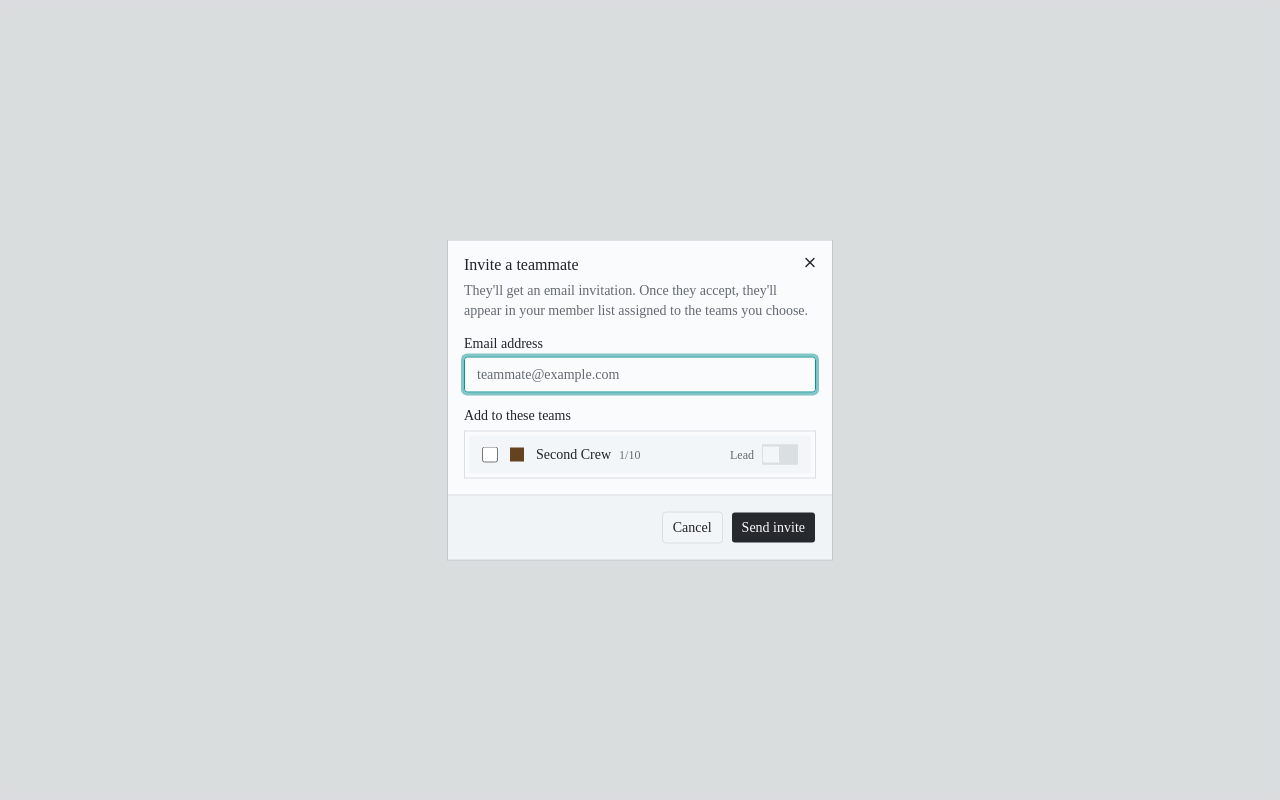
Test case: InviteForm › disables Send and shows an inline message when the typed email is already registered
The width and height of the screenshot is (1280, 800).
Type "registered@test.com" into the field labelled "Email address" at (640, 374), box x1=464 y1=356 x2=816 y2=392
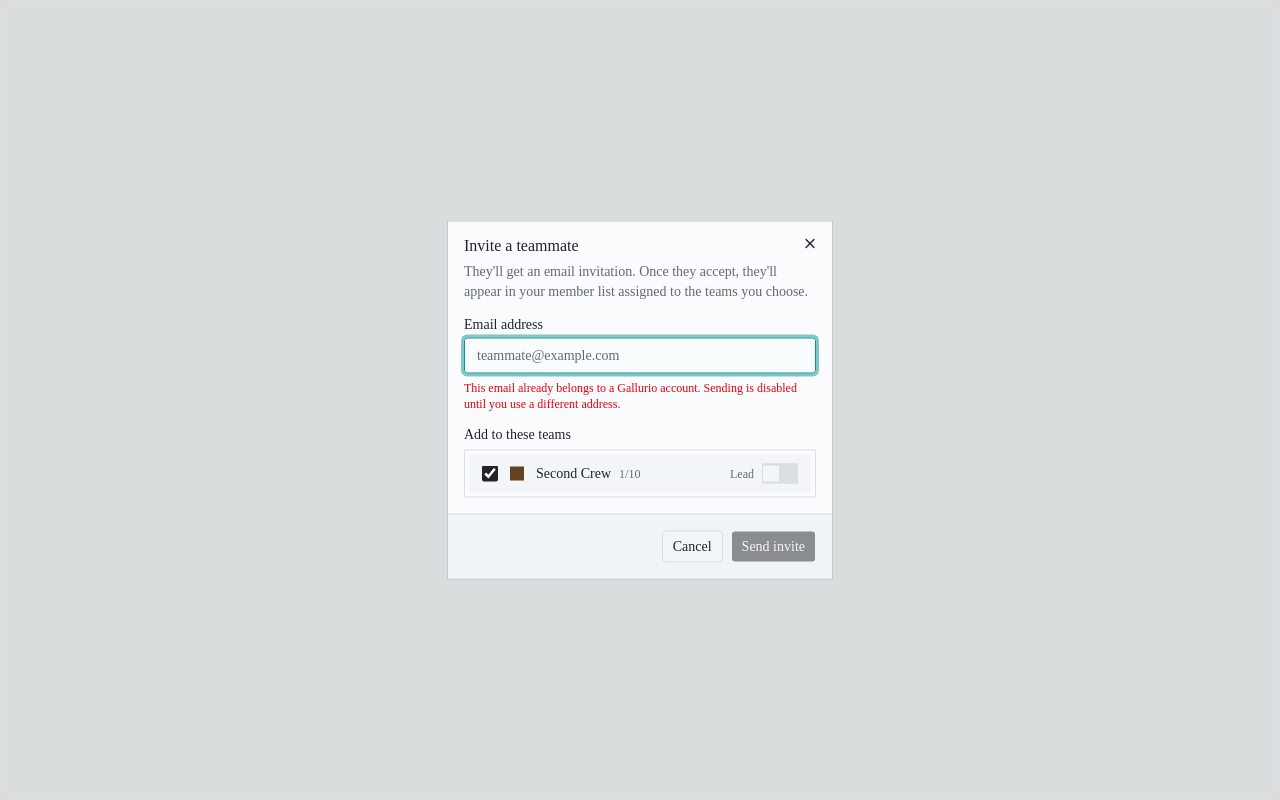
Now the text "already belongs to a Gallurio account" is shown, box x1=464 y1=380 x2=797 y2=410
Now the button "Send invite" is disabled, box x1=731 y1=530 x2=816 y2=562
